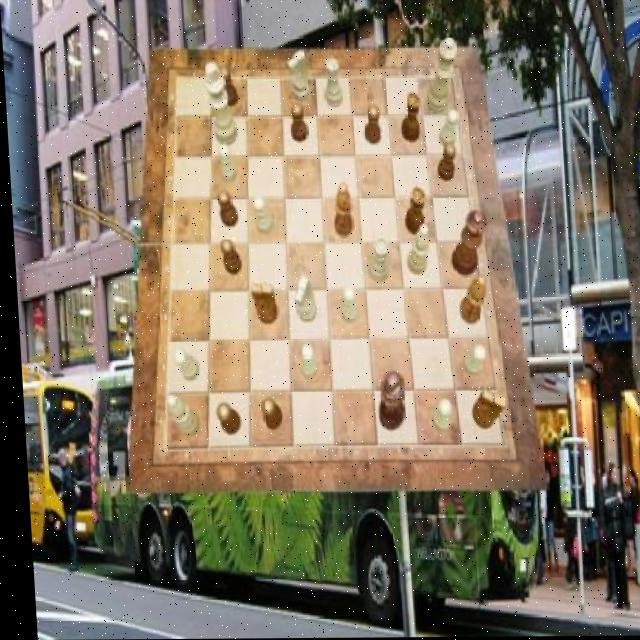bishop: (454, 274, 486, 325), (330, 183, 352, 237)
black-bishop: (373, 372, 403, 430)
black-king: (466, 390, 502, 430), (247, 283, 273, 325)
black-knight: (215, 189, 237, 227), (211, 403, 236, 436), (218, 66, 238, 106), (435, 144, 456, 182), (217, 239, 239, 275), (256, 397, 278, 431), (288, 105, 307, 143), (362, 105, 380, 145)
black-pawn: (447, 211, 488, 277)
black-queen: (401, 188, 426, 236), (398, 93, 421, 144)
black-rook: (161, 394, 196, 437), (403, 225, 428, 276)
white-bishop: (203, 63, 237, 147)
white-king: (287, 50, 310, 103), (290, 275, 314, 321)
white-knight: (170, 348, 196, 382), (436, 110, 459, 148), (251, 197, 273, 235), (458, 345, 483, 378), (426, 399, 448, 433), (217, 145, 236, 184), (295, 344, 314, 380), (335, 288, 354, 324)
white-pawn: (422, 37, 461, 114)
white-queen: (321, 58, 343, 109), (363, 239, 388, 283)
